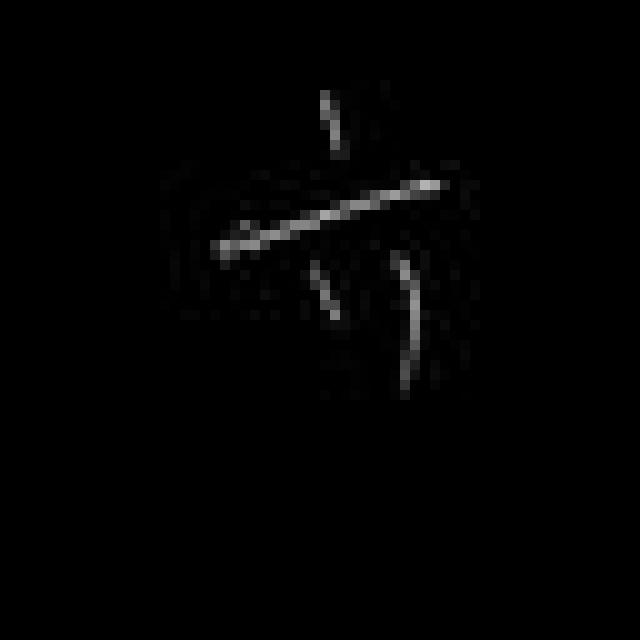6 -six-: (208, 82, 452, 398)
